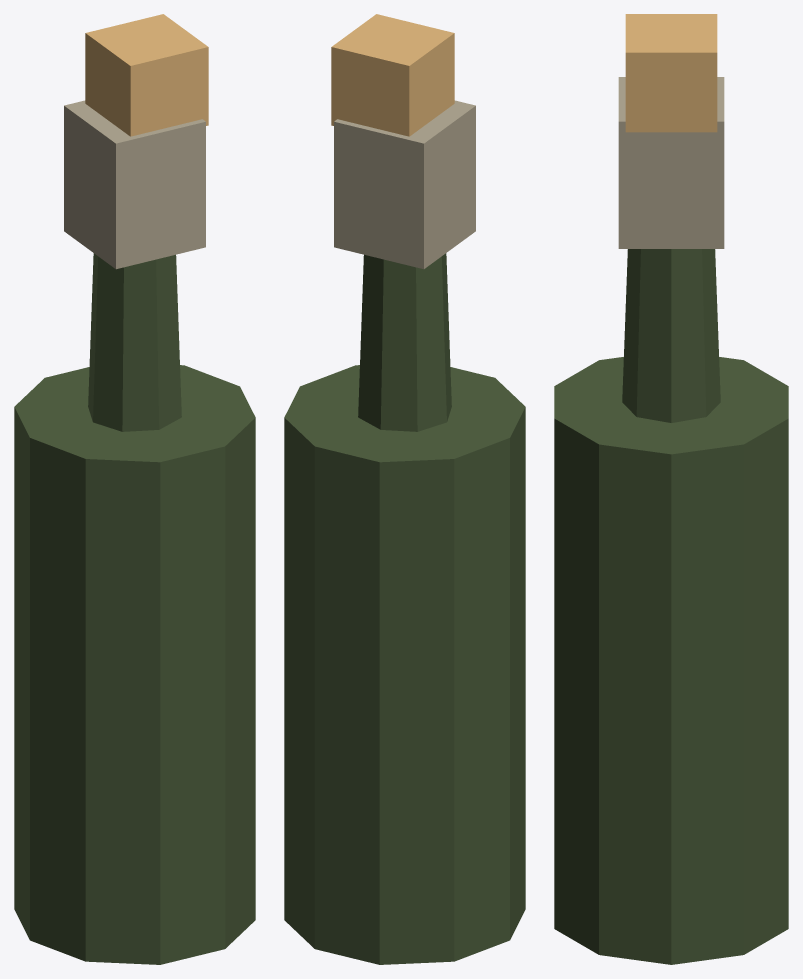
The model's file is prop_molotov.glb.
3 views of the same model, side by side, from view 1: azimuth 30°, elevation 25°; view 2: azimuth 150°, elevation 25°; view 3: azimuth 270°, elevation 25° (orthographic).
Visible parts, largest first — view 1: prop_molotov; view 2: prop_molotov; view 3: prop_molotov.
Boxes of the visible parts, x1,y1,x2,y2 form: prop_molotov: (14, 14, 255, 964); prop_molotov: (284, 14, 525, 964); prop_molotov: (554, 14, 788, 964).
Size of the model in its own units: 0.07 by 0.2775 by 0.0666.
